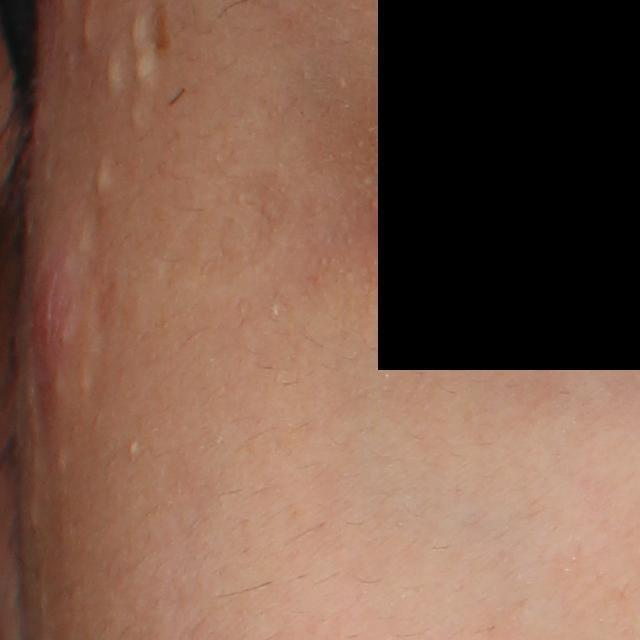comedo: (99, 47, 123, 96), (92, 156, 109, 199), (128, 100, 145, 129)
